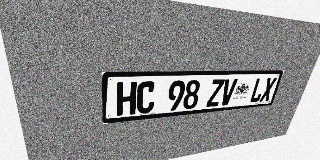8: (182, 80, 202, 109)
9: (166, 80, 186, 111)
C: (136, 81, 156, 114)
H: (116, 82, 137, 116)
L: (249, 78, 267, 103)
V: (219, 79, 238, 106)
X: (259, 77, 277, 102)
Z: (206, 79, 225, 107)
